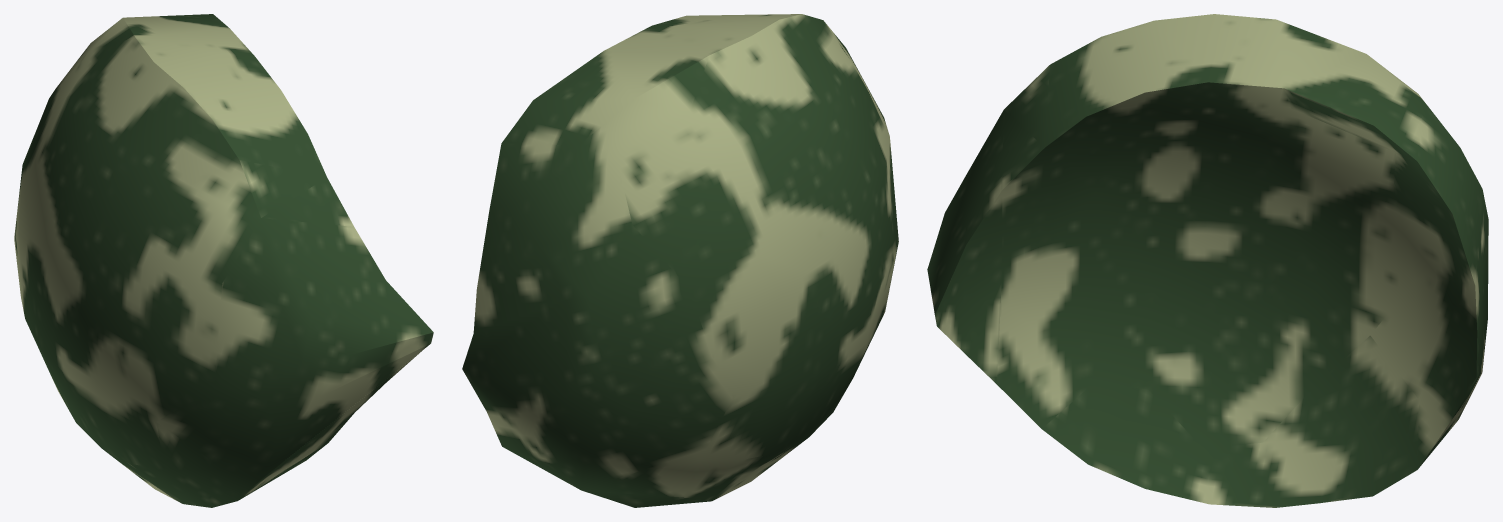
The model's file is link_body_17.obj.
3 views of the same model, side by side, from view 1: azimuth 30°, elevation 25°; view 2: azimuth 150°, elevation 25°; view 3: azimuth 270°, elevation 25° (orthographic). The views are drawn at different scales.
Parts seen in each view (by area): view 1: link_body_17; view 2: link_body_17; view 3: link_body_17.
Part boxes in pixels (bbox=[...]): link_body_17: bbox=[14, 14, 433, 507]; link_body_17: bbox=[462, 14, 898, 507]; link_body_17: bbox=[927, 14, 1488, 507].
Bounding box in the file's own units: 7.33 × 11.88 × 13.27.
